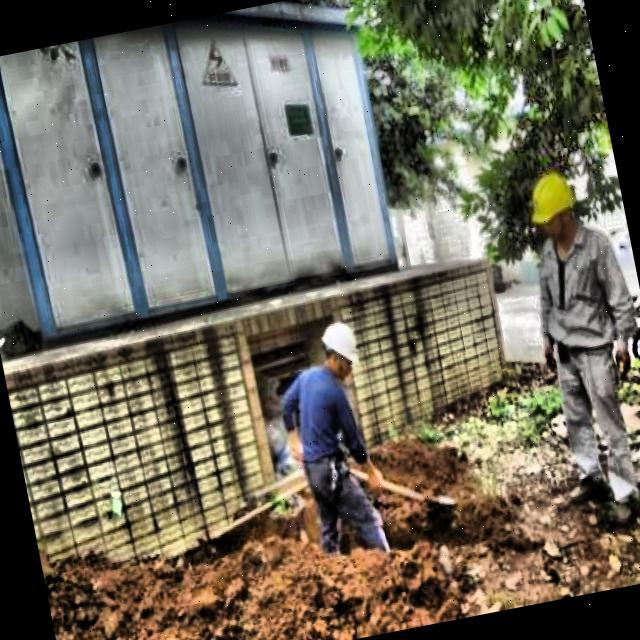helmet: (522, 163, 588, 257), (314, 316, 364, 382)
